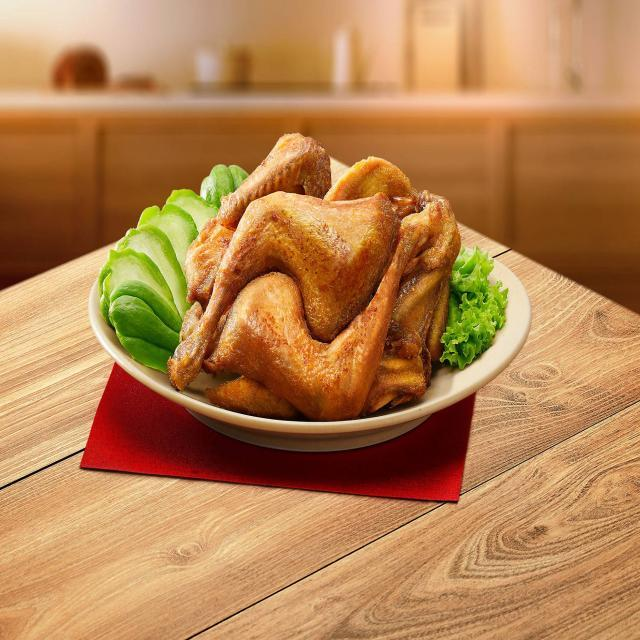ayam_goreng: (143, 112, 494, 454)
